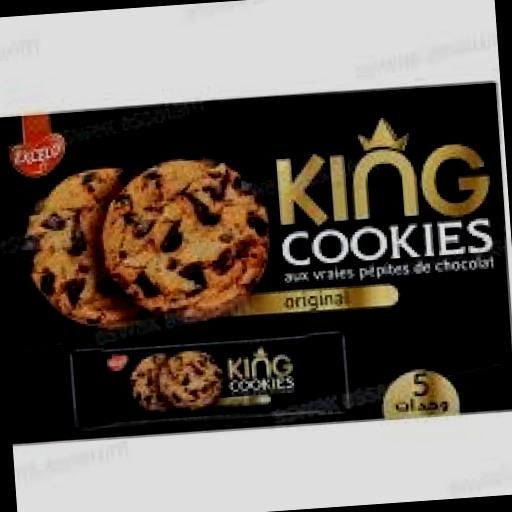king-cooking: (32, 260, 418, 466)
